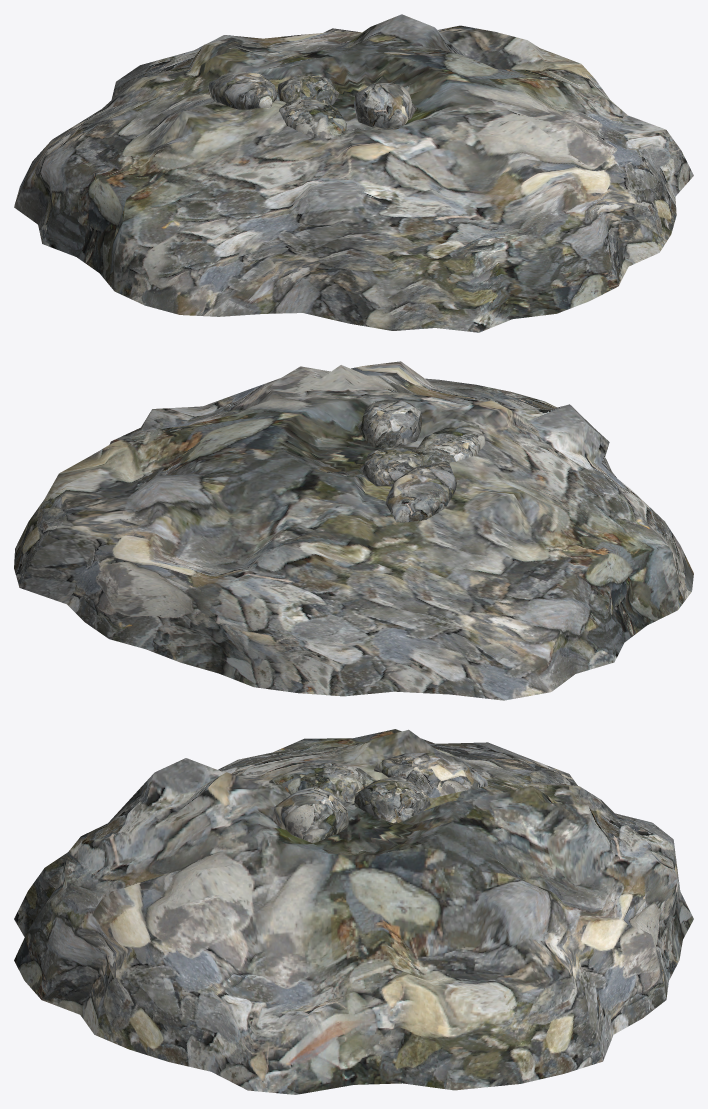
The model's file is rubble1.dae.
The picture shows the model from 3 angles, top to bottom: view 1: azimuth 30°, elevation 25°; view 2: azimuth 150°, elevation 25°; view 3: azimuth 270°, elevation 25°; orthographic projection. The views are drawn at different scales.
Parts seen in each view (by area): view 1: meshU3D; view 2: meshU3D; view 3: meshU3D.
Part boxes in pixels (x1=…): meshU3D: x1=14, y1=14, x2=693, y2=332; meshU3D: x1=14, y1=361, x2=693, y2=700; meshU3D: x1=14, y1=729, x2=693, y2=1094.
Size of the model in its own units: 115 by 26.16 by 109.
1 material, 1 textured.
